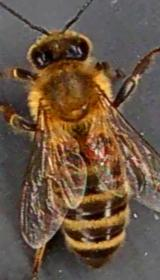varroa_mite: (82, 138, 110, 162)
